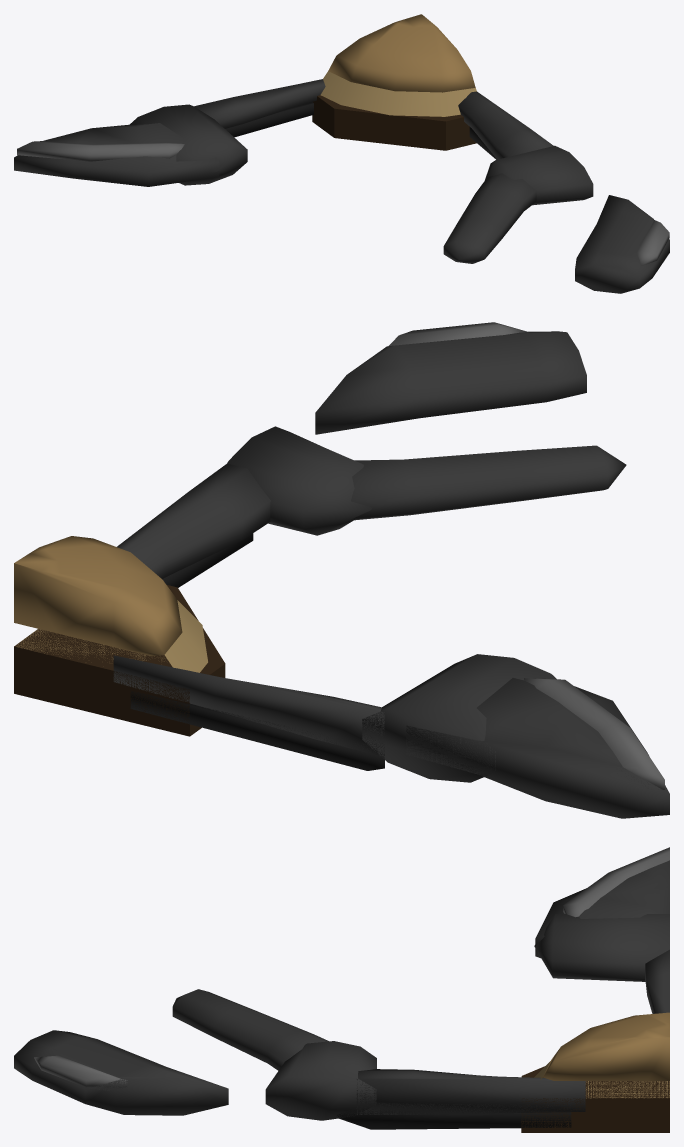
The model's file is newsh-hash-39-f5.glb.
The picture shows the model from 3 angles, top to bottom: view 1: azimuth 30°, elevation 25°; view 2: azimuth 150°, elevation 25°; view 3: azimuth 270°, elevation 25°; orthographic projection. The views are drawn at different scales.
Visible parts, largest first — view 1: newsh-hash-39-f5; view 2: newsh-hash-39-f5; view 3: newsh-hash-39-f5.
Part boxes in pixels (left/top/right/bottom): newsh-hash-39-f5: left=14, top=14, right=669, bottom=293; newsh-hash-39-f5: left=14, top=322, right=669, bottom=818; newsh-hash-39-f5: left=14, top=847, right=669, bottom=1132.
Size of the model in its own units: 1.45 by 0.2763 by 1.72.
